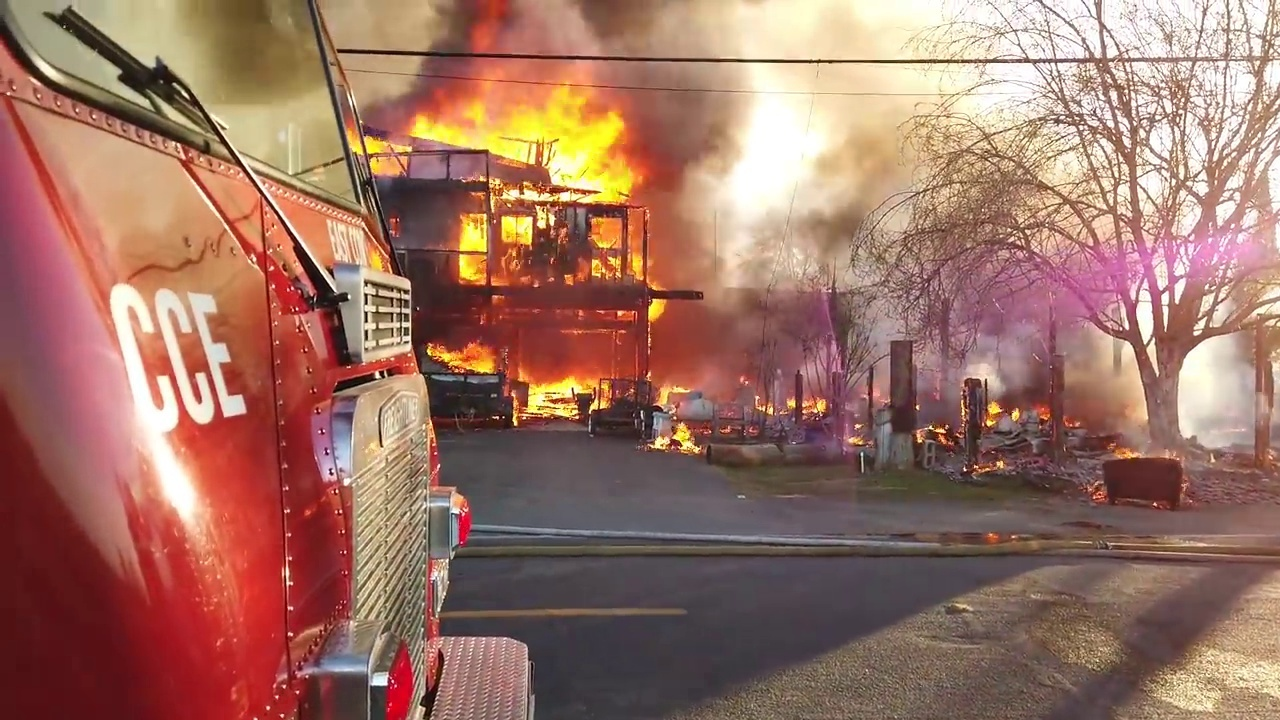fire: (410, 85, 645, 287), (510, 366, 608, 416), (430, 335, 503, 377), (645, 420, 703, 452), (752, 390, 828, 411), (918, 422, 955, 442), (964, 456, 1010, 472), (654, 379, 685, 402), (1115, 444, 1168, 456), (984, 401, 1004, 424), (842, 430, 866, 445), (1034, 402, 1051, 418)
smoke: (638, 0, 782, 381)
